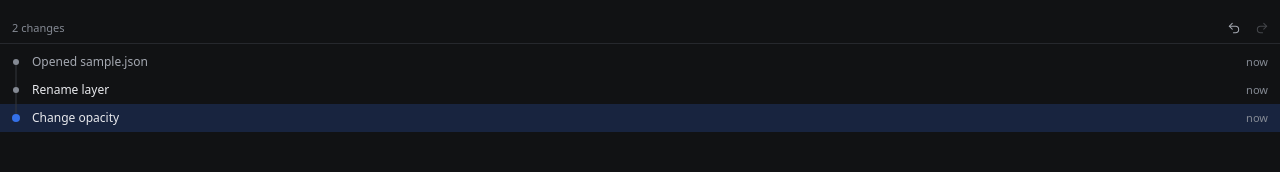
Test: HistoryPanel › lists steps, marks the current one and jumps on click
The width and height of the screenshot is (1280, 172).
Click the option "Opened sample.json now".
click(90, 62)  # box left=0, top=48, right=1279, bottom=76
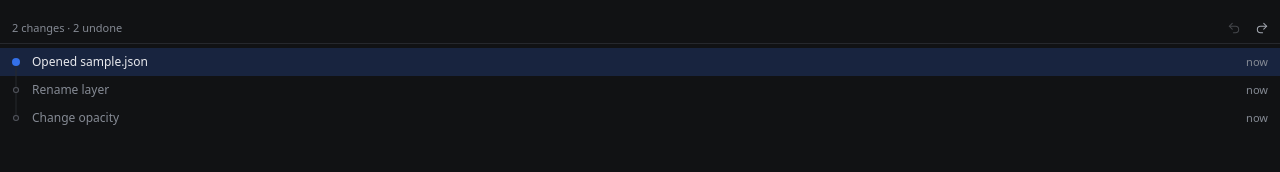
Result: the text "2 changes · 2 undone" is shown at left=12, top=20, right=122, bottom=34
